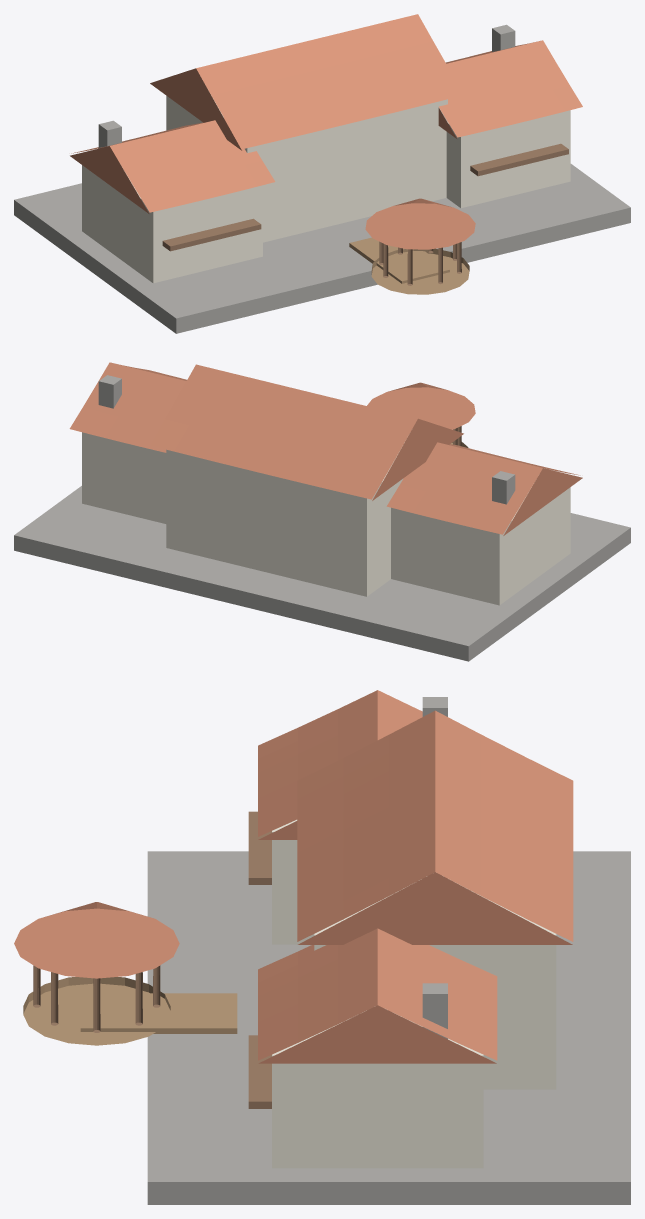
File: lm_82_dalat_edensee_lake_resort_spa_tuyen_lam.glb
3 renders of one model, top to bottom at view 1: azimuth 30°, elevation 25°; view 2: azimuth 150°, elevation 25°; view 3: azimuth 270°, elevation 25°, orthographic. The views are drawn at different scales.
Parts seen in each view (by area): view 1: lm_82_dalat_edensee_lake_resort_spa_tuyen_lam; view 2: lm_82_dalat_edensee_lake_resort_spa_tuyen_lam; view 3: lm_82_dalat_edensee_lake_resort_spa_tuyen_lam.
Part boxes in pixels (x1=…): lm_82_dalat_edensee_lake_resort_spa_tuyen_lam: x1=14, y1=14, x2=630, y2=333; lm_82_dalat_edensee_lake_resort_spa_tuyen_lam: x1=14, y1=362, x2=630, y2=661; lm_82_dalat_edensee_lake_resort_spa_tuyen_lam: x1=14, y1=690, x2=630, y2=1204.
Bounding box in the file's own units: 34 × 11.9 × 26.8.
